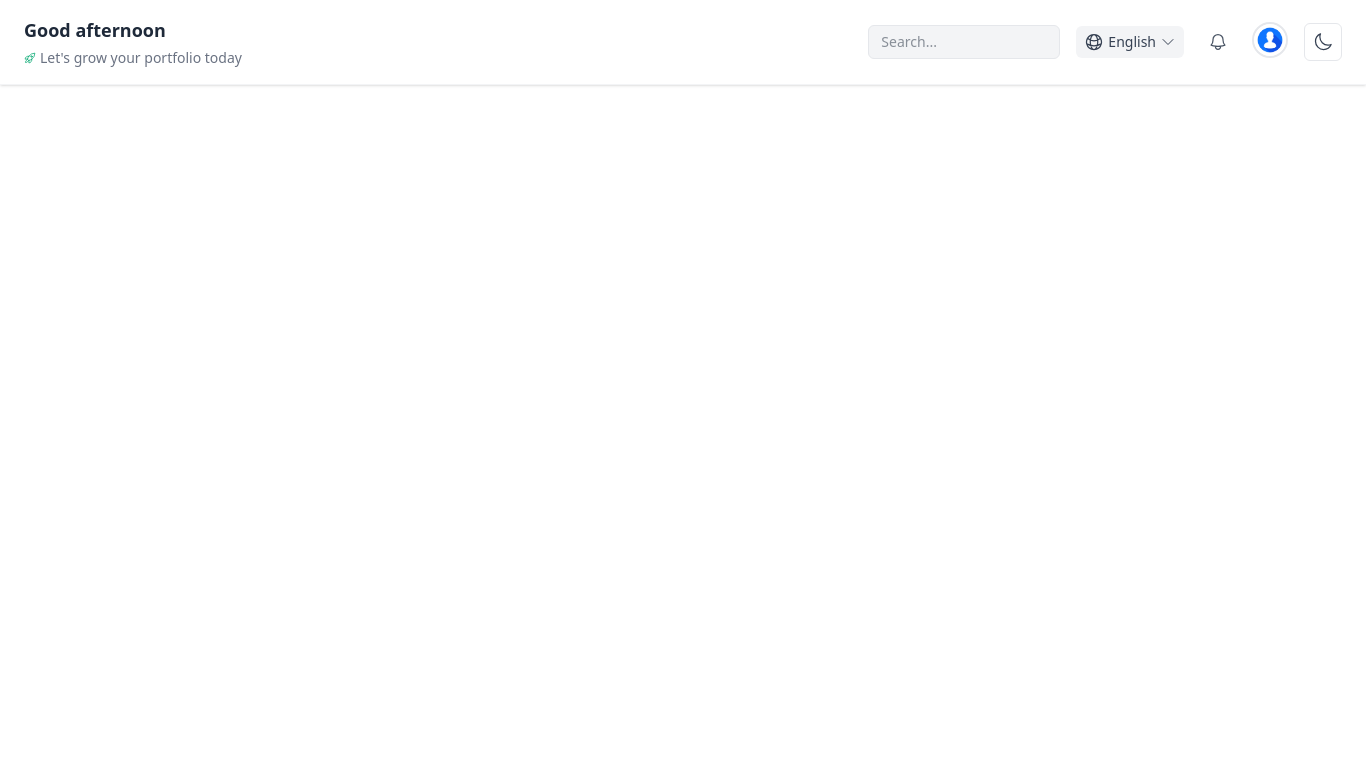
Test: Topbar › logs out, clears auth, shows confirmation, and redirects home
What coordinates should you click on to do the following:
click the 2nd button named "User Avatar"
I would click on:
 (1270, 40)
Its box is [1252, 22, 1288, 58].
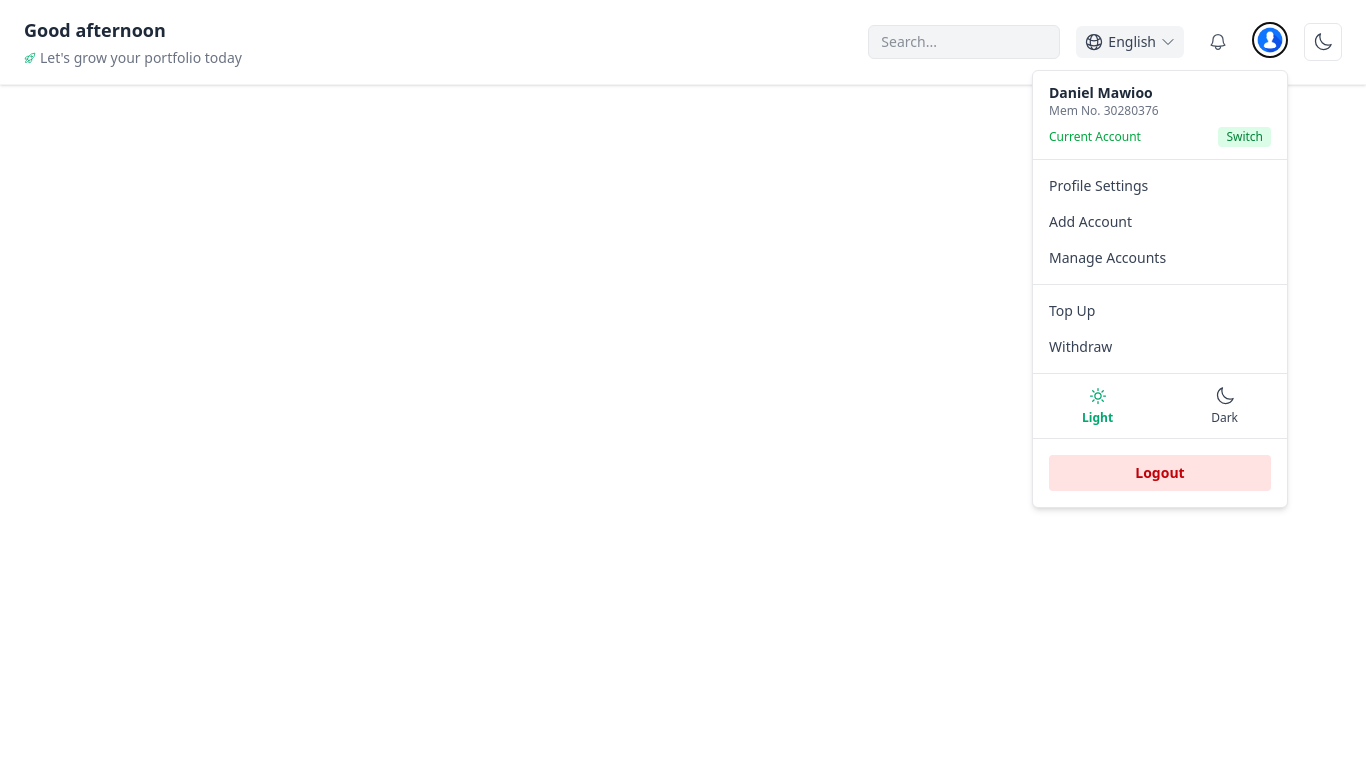
What coordinates should you click on to do the following:
click the button "Logout"
I would click on:
 (1160, 473)
Its box is [1049, 455, 1271, 491].
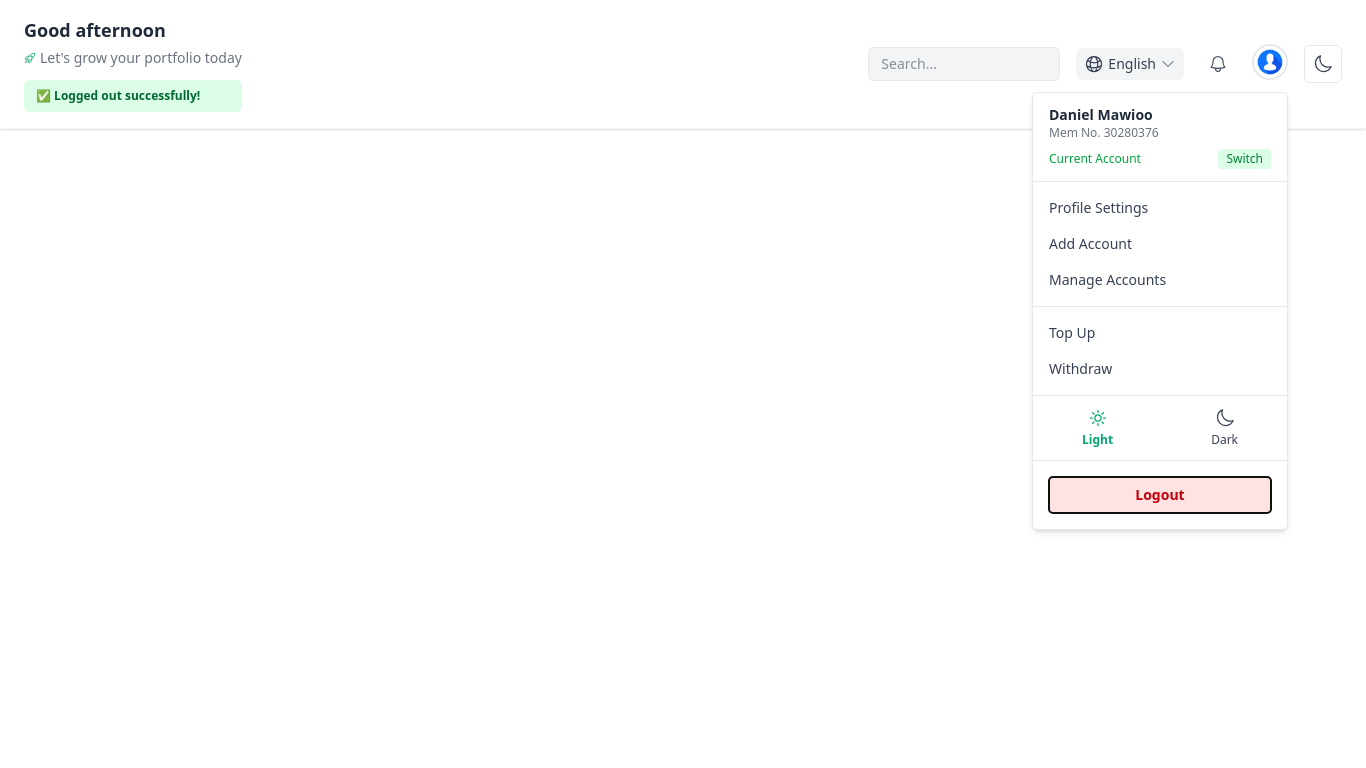
expect the text "✅ Logged out successfully!" is shown: met, box [24, 80, 242, 112]
